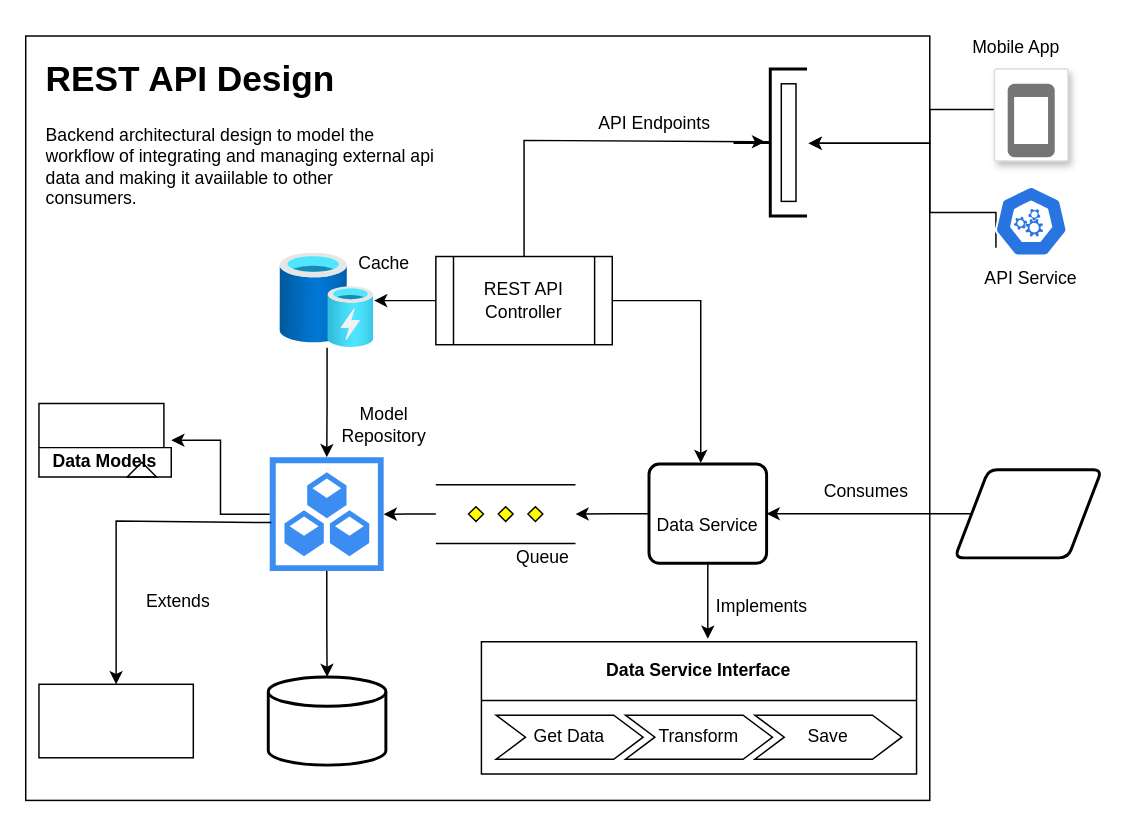
Image size: 1129x826. Some labels were removed from this diagram. Each missing label, with the centre of its shape:
Database: point 326,720
External API: point 1027,513
Phone: point 1032,116
Repository Abstract Class: point 115,720
